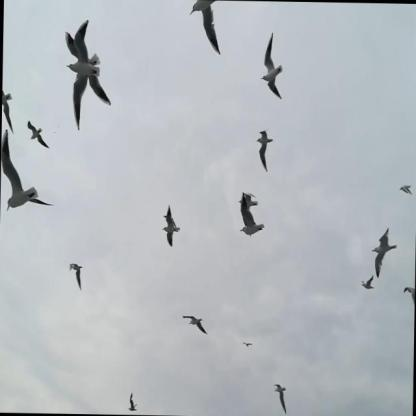bird: (0, 127, 56, 213), (64, 16, 102, 131), (64, 30, 113, 106), (186, 0, 223, 58), (259, 32, 284, 103), (370, 225, 398, 279), (238, 191, 266, 240), (255, 126, 276, 174), (159, 202, 180, 249), (1, 85, 17, 137), (25, 120, 51, 150), (181, 313, 208, 337), (66, 261, 84, 295), (272, 381, 288, 413), (238, 189, 259, 213), (359, 274, 374, 294), (127, 390, 138, 414), (399, 183, 412, 196), (240, 340, 253, 351)
